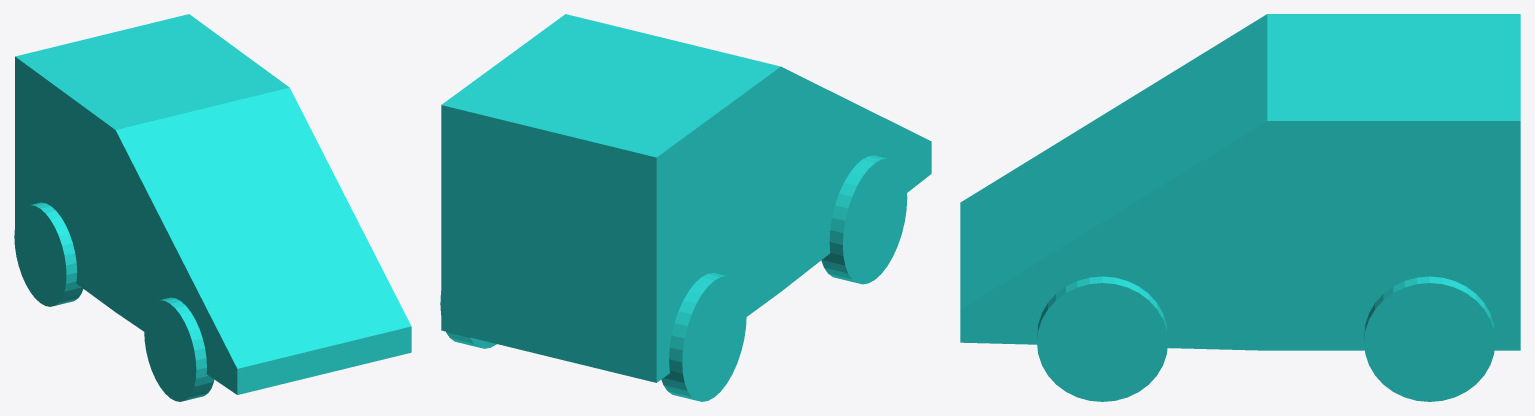
Rendered from car.fbx.
The picture shows the model from 3 angles, left to right: view 1: azimuth 30°, elevation 25°; view 2: azimuth 150°, elevation 25°; view 3: azimuth 270°, elevation 25°; orthographic projection. The views are drawn at different scales.
Visible parts, largest first — view 1: car; view 2: car; view 3: car.
Boxes of the visible parts, x1,y1,x2,y2 form: car: (14,14,411,401); car: (440,14,931,401); car: (960,14,1520,401).
Bounding box in the file's own units: 2.25 × 2.39 × 4.42.
